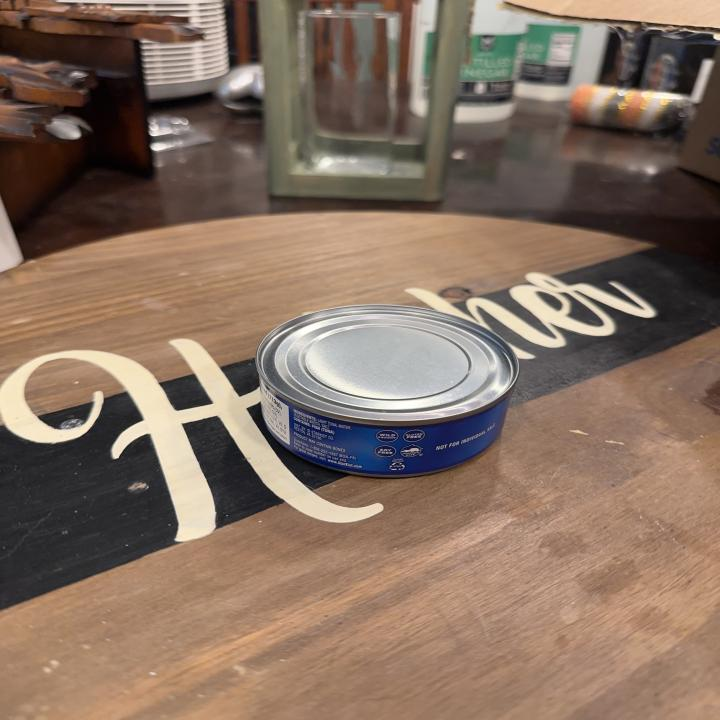Canned-Tuna: (255, 302, 523, 483)
